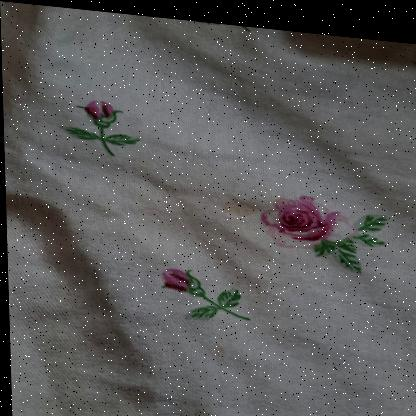spot: (215, 183, 255, 214)
